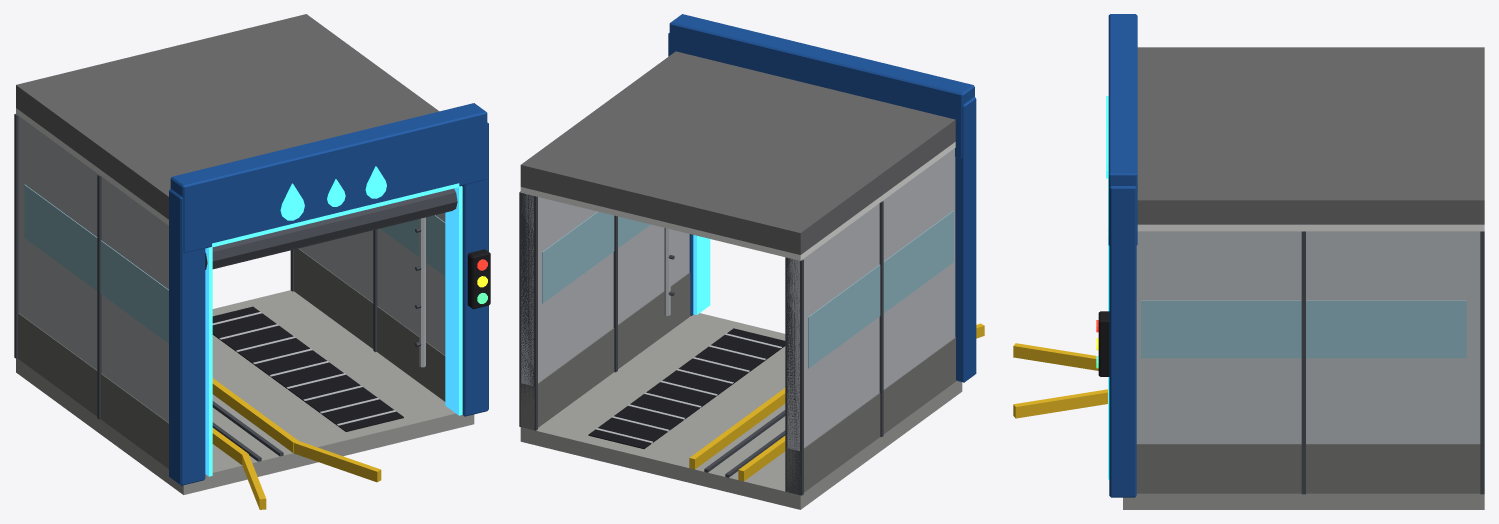
The model's file is Wash_Tunnel_Entry.glb.
The picture shows the model from 3 angles, left to right: view 1: azimuth 30°, elevation 25°; view 2: azimuth 150°, elevation 25°; view 3: azimuth 270°, elevation 25°; orthographic projection. The views are drawn at different scales.
Visible parts, largest first — view 1: Wash_Tunnel_Entry; view 2: Wash_Tunnel_Entry; view 3: Wash_Tunnel_Entry.
Boxes of the visible parts, box(x1,y1,x2,y2) form: Wash_Tunnel_Entry: box(14, 14, 490, 509); Wash_Tunnel_Entry: box(519, 14, 984, 509); Wash_Tunnel_Entry: box(1013, 14, 1484, 509).
Bounding box in the file's own units: 4.25 × 4.15 × 5.21.
Materials: 1 (1 with a texture image).
